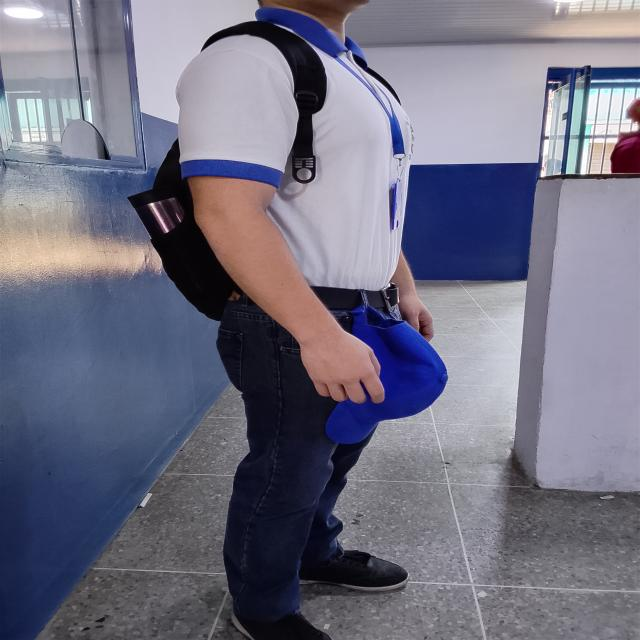carnet: (391, 181, 402, 230)
pantalon_oscuro: (214, 296, 401, 628)
uniforme_superior: (174, 7, 415, 292)
